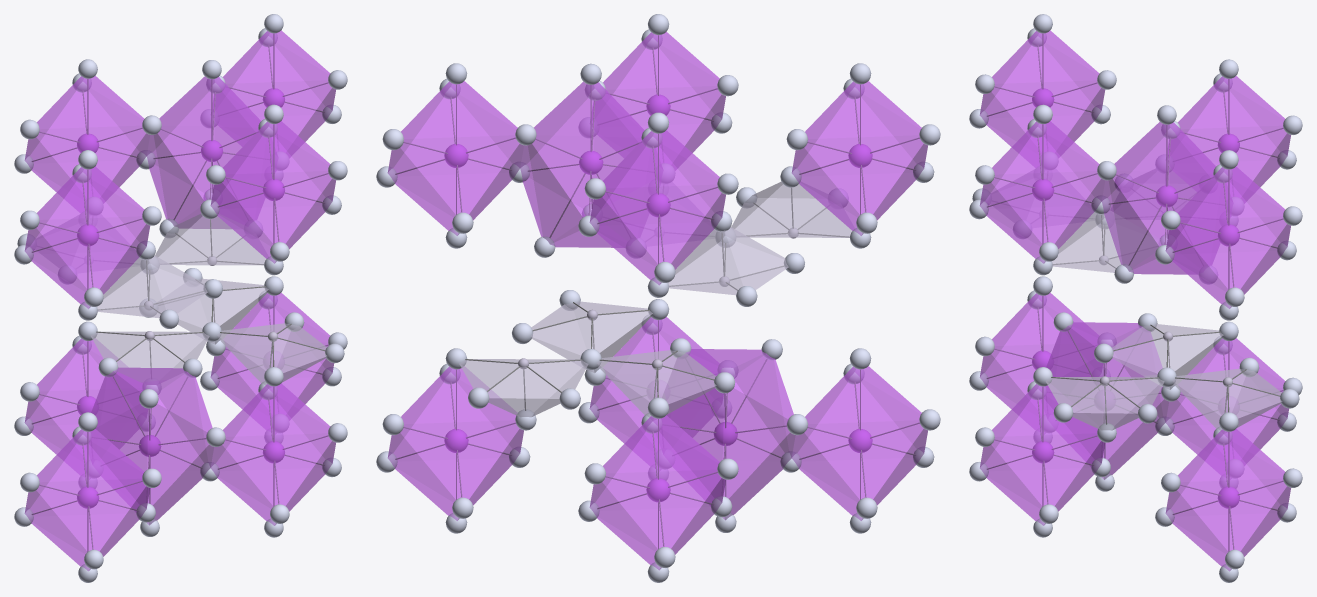
Rendered from KSn2F5.glb.
3 views of the same model, side by side, from view 1: azimuth 30°, elevation 25°; view 2: azimuth 150°, elevation 25°; view 3: azimuth 270°, elevation 25° (orthographic). The views are drawn at different scales.
Visible parts, largest first — view 1: Shape_IndexedFaceSet.048, Shape_IndexedFaceSet, atom3_IndexedFaceSet, Shape_Cylinder, atom1_IndexedFaceSet; view 2: Shape_IndexedFaceSet.048, atom3_IndexedFaceSet, Shape_IndexedFaceSet, Shape_Cylinder, atom1_IndexedFaceSet; view 3: Shape_IndexedFaceSet.048, atom3_IndexedFaceSet, Shape_IndexedFaceSet, Shape_Cylinder, atom1_IndexedFaceSet.
Boxes of the visible parts, x1,y1,x2,y2 form: Shape_IndexedFaceSet.048: (24,30,335,570); Shape_IndexedFaceSet: (33,212,327,385); atom3_IndexedFaceSet: (14,14,347,582); Shape_Cylinder: (31,34,328,551); atom1_IndexedFaceSet: (77,88,284,508); Shape_IndexedFaceSet.048: (387,32,927,570); atom3_IndexedFaceSet: (376,14,940,582); Shape_IndexedFaceSet: (459,181,854,417); Shape_Cylinder: (395,35,919,548); atom1_IndexedFaceSet: (444,94,872,502); Shape_IndexedFaceSet.048: (979,30,1290,571); atom3_IndexedFaceSet: (969,14,1302,582); Shape_IndexedFaceSet: (988,167,1282,430); Shape_Cylinder: (986,34,1283,551); atom1_IndexedFaceSet: (1032,88,1239,508).
Size of the model in its own units: 16.34 by 16.1 by 11.29.
